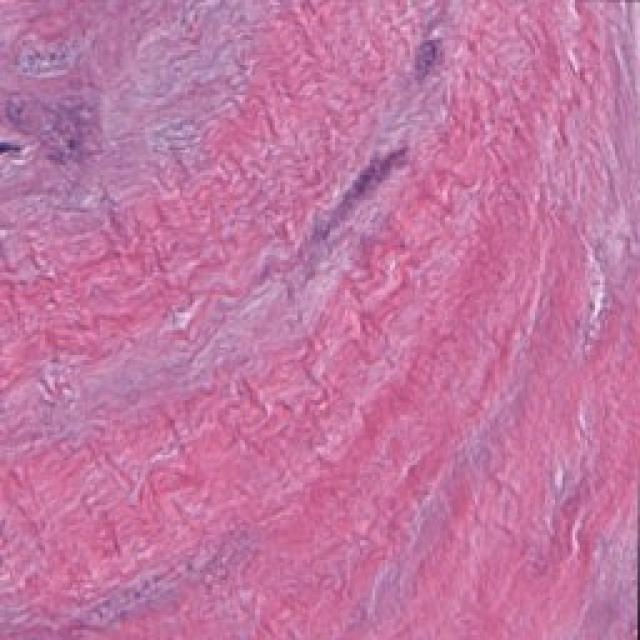normal: (320, 241, 522, 436)
